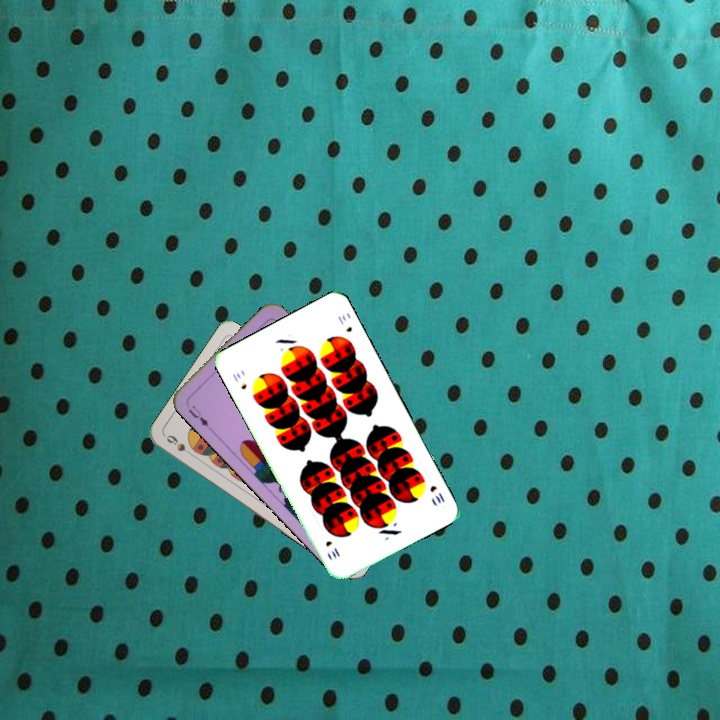EU: (184, 401, 214, 432)
S10: (426, 481, 447, 506), (228, 368, 249, 392)
S9: (162, 431, 197, 460)
